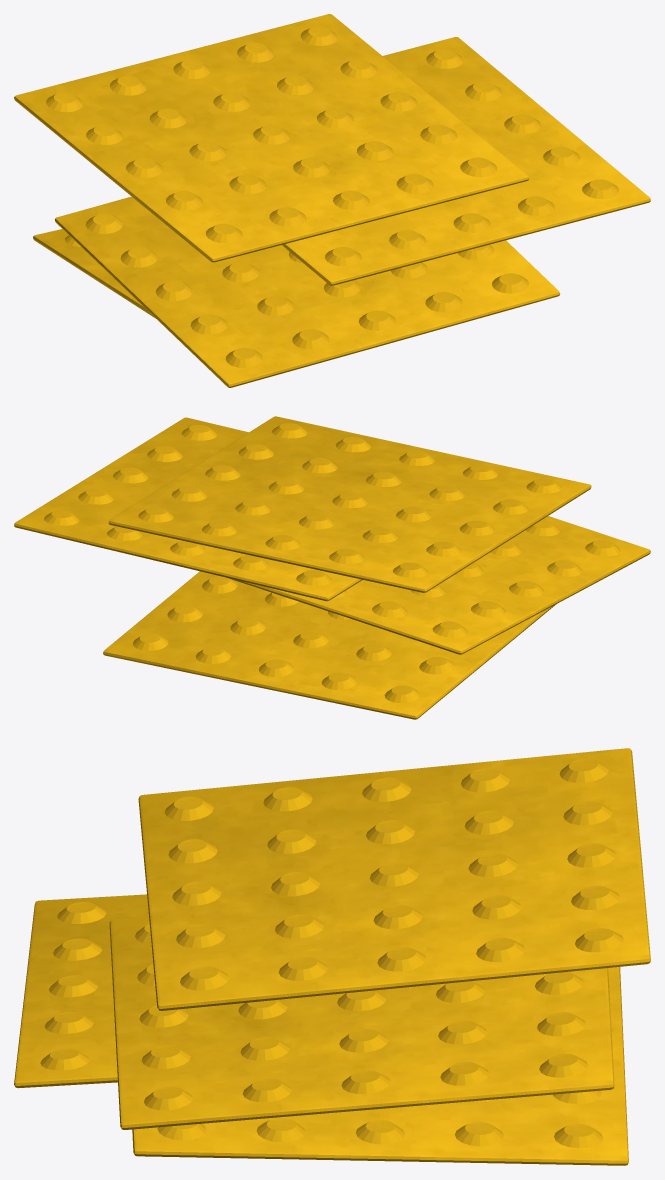
Rendered from PIS-TAT-003_anim.glb.
The picture shows the model from 3 angles, top to bottom: view 1: azimuth 30°, elevation 25°; view 2: azimuth 150°, elevation 25°; view 3: azimuth 270°, elevation 25°; orthographic projection. The views are drawn at different scales.
Visible parts, largest first — view 1: PIS-TAT-003_anim3, PIS-TAT-003_anim1, PIS-TAT-003_anim2, PIS-TAT-003_anim0; view 2: PIS-TAT-003_anim3, PIS-TAT-003_anim0, PIS-TAT-003_anim1, PIS-TAT-003_anim2; view 3: PIS-TAT-003_anim3, PIS-TAT-003_anim2, PIS-TAT-003_anim0, PIS-TAT-003_anim1.
Part boxes in pixels (<box>): PIS-TAT-003_anim3: <box>14,14,529,262</box>; PIS-TAT-003_anim1: <box>55,196,559,387</box>; PIS-TAT-003_anim2: <box>282,37,650,285</box>; PIS-TAT-003_anim0: <box>33,229,155,318</box>; PIS-TAT-003_anim3: <box>108,416,591,592</box>; PIS-TAT-003_anim0: <box>103,571,556,719</box>; PIS-TAT-003_anim1: <box>228,516,650,654</box>; PIS-TAT-003_anim2: <box>14,417,362,601</box>; PIS-TAT-003_anim3: <box>138,748,650,1010</box>; PIS-TAT-003_anim2: <box>109,916,614,1129</box>; PIS-TAT-003_anim0: <box>132,967,628,1165</box>; PIS-TAT-003_anim1: <box>14,894,148,1088</box>.
Bounding box in the file's own units: 0.35 × 0.1149 × 0.3211.
Materials: 1 (1 with a texture image).
